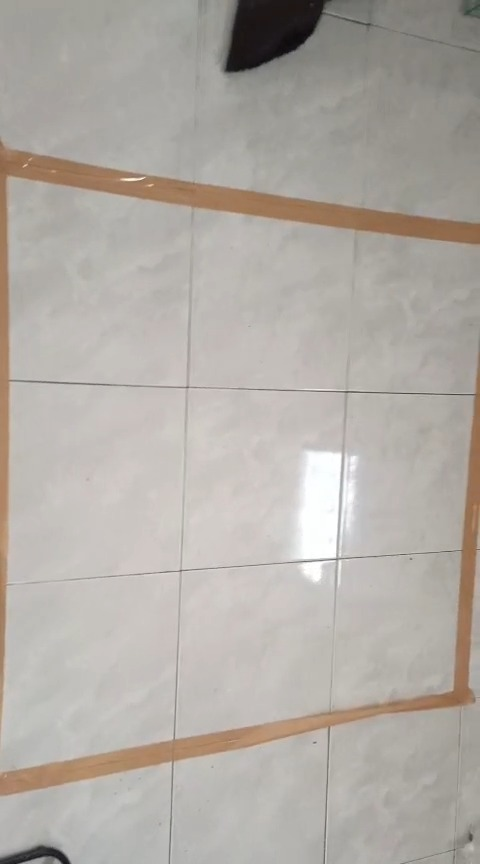floor marking: (0, 146, 479, 719), (0, 360, 479, 793)
